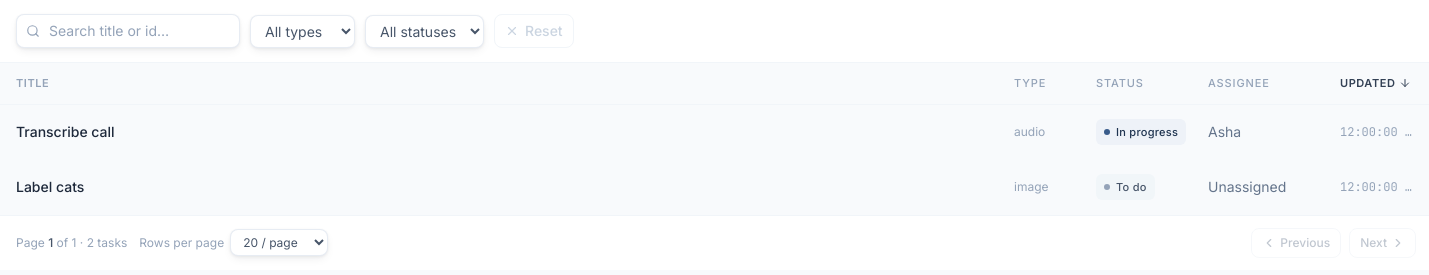
it: <TaskList /> filtering › Reset clears an active filter and restores all rows
Check: the button "Reset" is disabled, box [494, 14, 574, 48]
Select "Audio" in the dropdown named "Type" at (302, 31), box [250, 14, 355, 48]
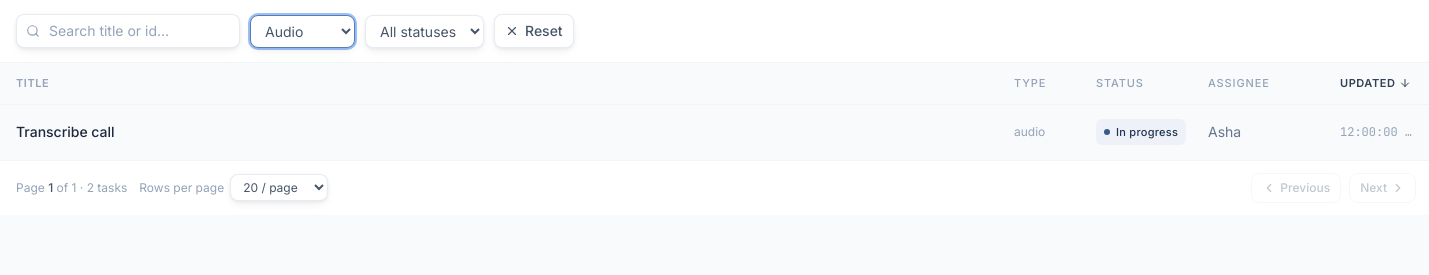
Check: the button "Label cats" is gone
Check: the button "Reset" is enabled
Click the button "Reset" at (534, 31), box [494, 14, 574, 48]
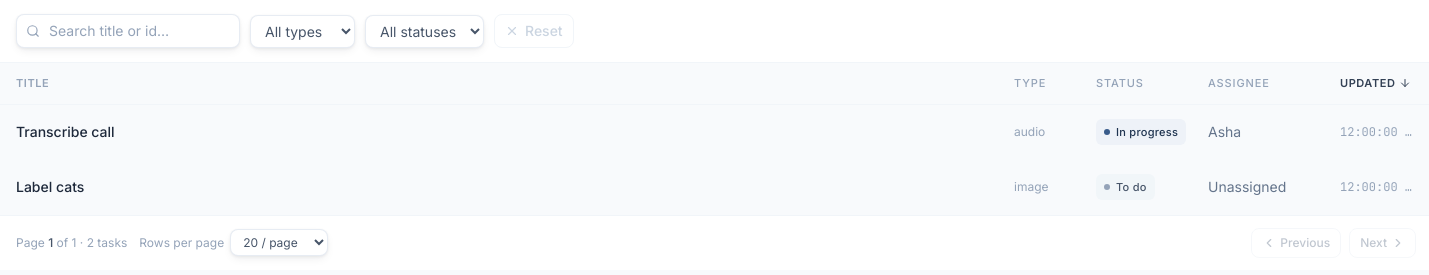
Check: the text "Transcribe call" is shown, box [16, 122, 115, 140]
Check: the text "Label cats" is shown, box [16, 178, 84, 194]
Check: the button "Reset" is disabled, box [494, 14, 574, 48]
